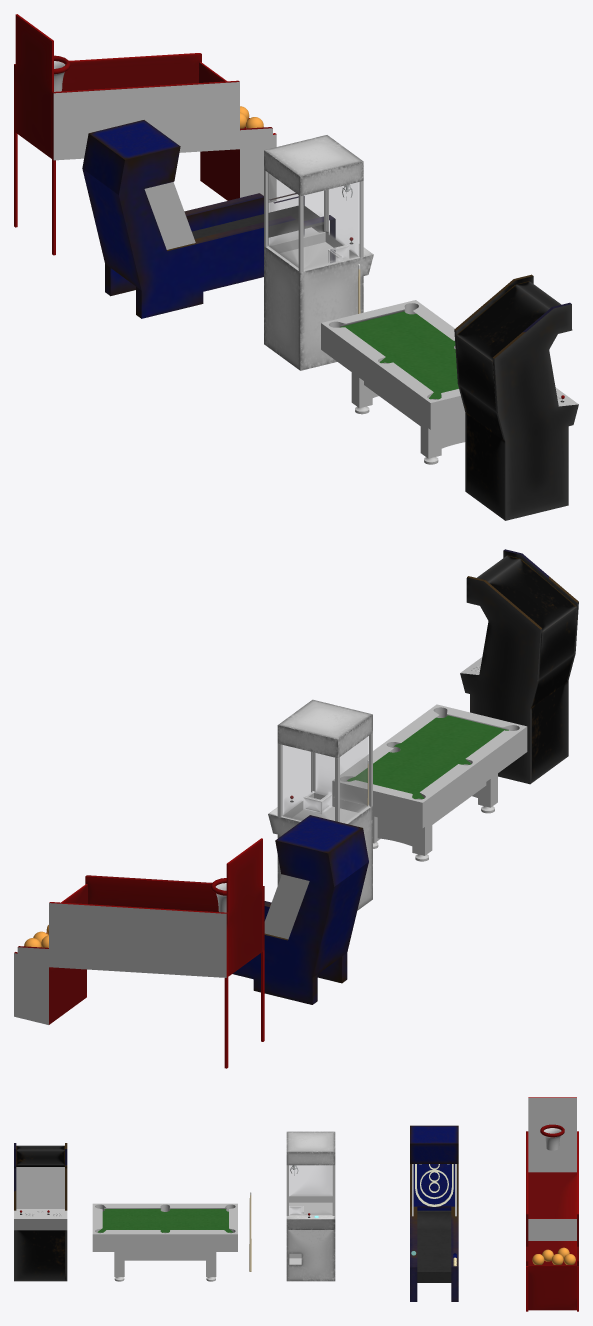
3 renders of one model, top to bottom at view 1: azimuth 30°, elevation 25°; view 2: azimuth 150°, elevation 25°; view 3: azimuth 270°, elevation 25°, orthographic. The views are drawn at different scales.
Parts seen in each view (by area): view 1: pCube2, polySurface12, pCube6, ClawMachineBase, PoolTable1; view 2: pCube2, pCube6, PoolTable1, polySurface12, ClawMachineBase; view 3: pCube2, PoolTable1, polySurface12, ClawMachineBase, pCube6, Hoop.
Boxes of the visible parts, bbox=[...] form: pCube2: bbox=[14, 14, 276, 255]; polySurface12: bbox=[82, 120, 335, 318]; pCube6: bbox=[454, 274, 578, 520]; ClawMachineBase: bbox=[264, 135, 373, 370]; PoolTable1: bbox=[321, 300, 465, 458]; pCube2: bbox=[14, 838, 264, 1068]; pCube6: bbox=[460, 549, 578, 784]; PoolTable1: bbox=[332, 704, 527, 855]; polySurface12: bbox=[232, 815, 368, 1004]; ClawMachineBase: bbox=[268, 699, 372, 910]; pCube2: bbox=[526, 1097, 578, 1311]; PoolTable1: bbox=[92, 1203, 237, 1276]; polySurface12: bbox=[410, 1125, 458, 1301]; ClawMachineBase: bbox=[286, 1131, 335, 1281]; pCube6: bbox=[14, 1143, 67, 1281]; Hoop: bbox=[540, 1124, 564, 1150].
Size of the model in its own units: 0.0776 by 0.0647 by 0.2329.
